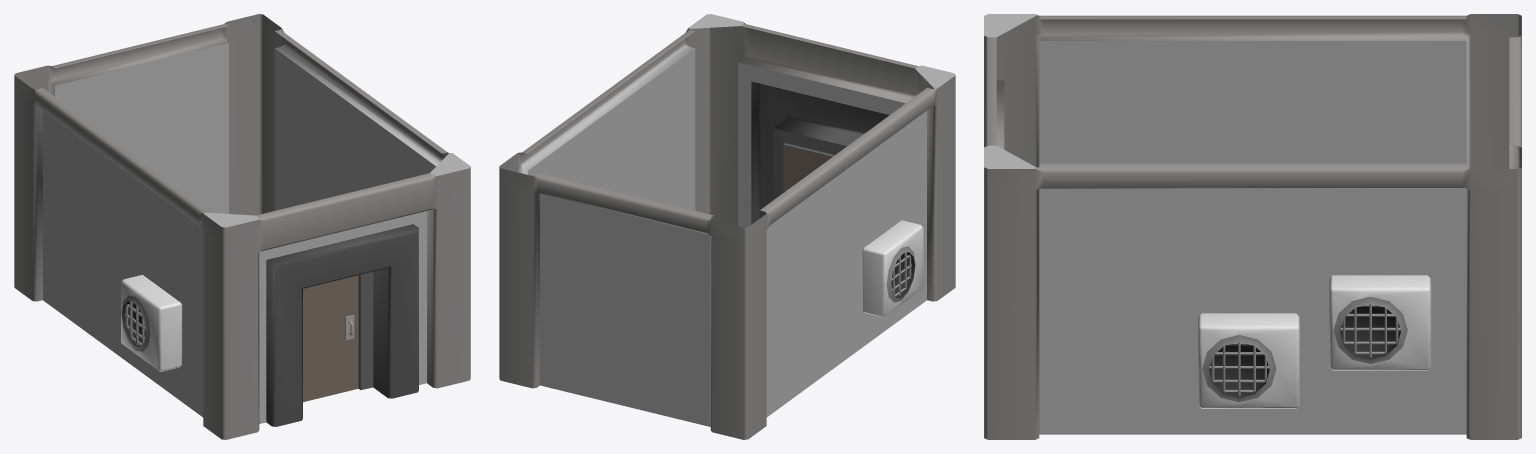
The model's file is GroundFloor2.fbx.
The picture shows the model from 3 angles, left to right: view 1: azimuth 30°, elevation 25°; view 2: azimuth 150°, elevation 25°; view 3: azimuth 270°, elevation 25°; orthographic projection. The views are drawn at different scales.
Parts seen in each view (by area): view 1: GroundFloor2, ACUnit3; view 2: GroundFloor2, ACUnit3; view 3: GroundFloor2, ACUnit2, ACUnit1.
Boxes of the visible parts, left/top/right/bottom form: GroundFloor2: left=14, top=14, right=470, bottom=439; ACUnit3: left=121, top=275, right=182, bottom=371; GroundFloor2: left=499, top=14, right=955, bottom=439; ACUnit3: left=862, top=220, right=923, bottom=317; GroundFloor2: left=984, top=14, right=1521, bottom=439; ACUnit2: left=1329, top=275, right=1431, bottom=370; ACUnit1: left=1198, top=313, right=1299, bottom=408.
Bounding box in the file's own units: 490 × 350 × 629.
